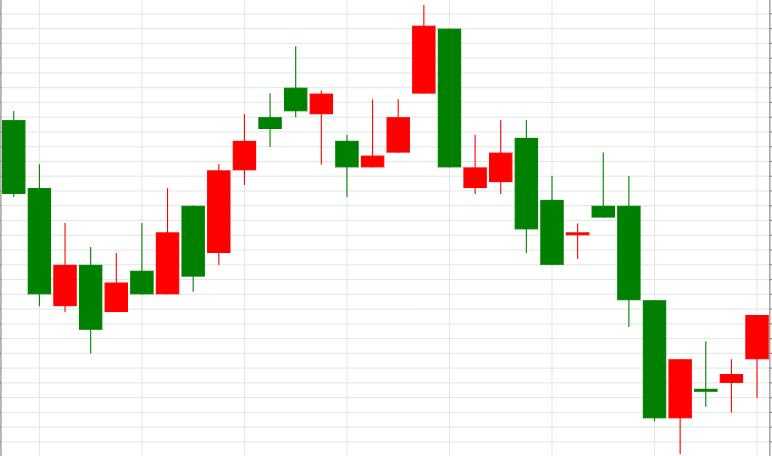shooting_star_fall: (105, 45, 307, 312)
